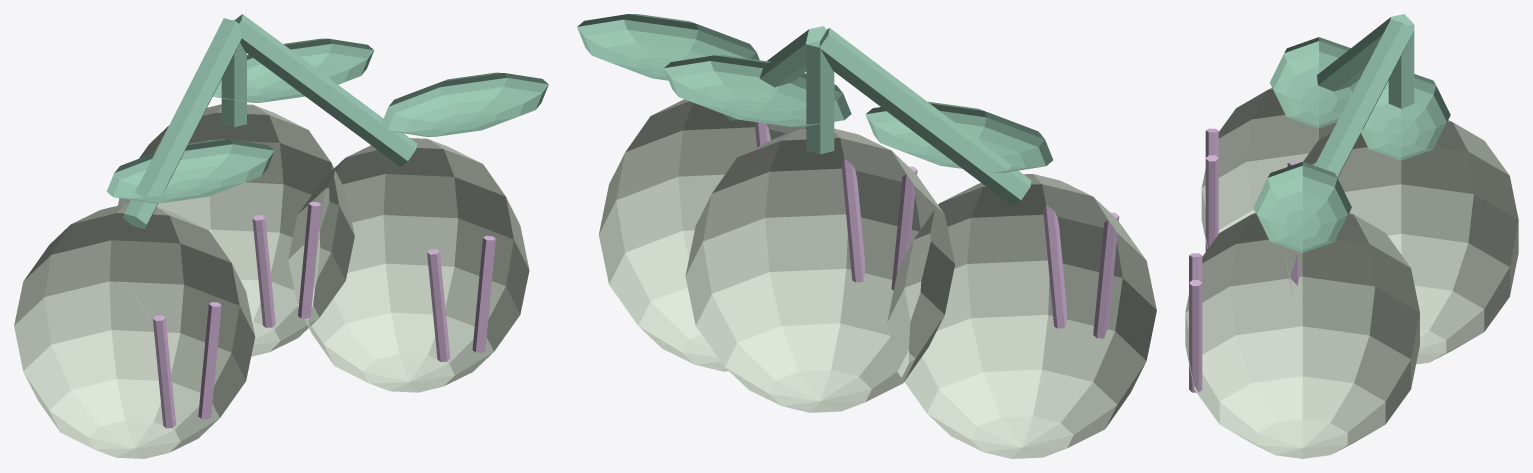
The model's file is runestone-conservatory-moonfruit-cluster__119.glb.
The picture shows the model from 3 angles, left to right: view 1: azimuth 30°, elevation 25°; view 2: azimuth 150°, elevation 25°; view 3: azimuth 270°, elevation 25°; orthographic projection. The views are drawn at different scales.
Parts seen in each view (by area): view 1: runestone-conservatory-moonfruit; view 2: runestone-conservatory-moonfruit; view 3: runestone-conservatory-moonfruit.
Part boxes in pixels (bbox=[...]): runestone-conservatory-moonfruit: bbox=[14, 14, 548, 458]; runestone-conservatory-moonfruit: bbox=[577, 14, 1156, 458]; runestone-conservatory-moonfruit: bbox=[1185, 14, 1518, 458].
Size of the model in its own units: 0.73 by 0.5023 by 0.4053.
